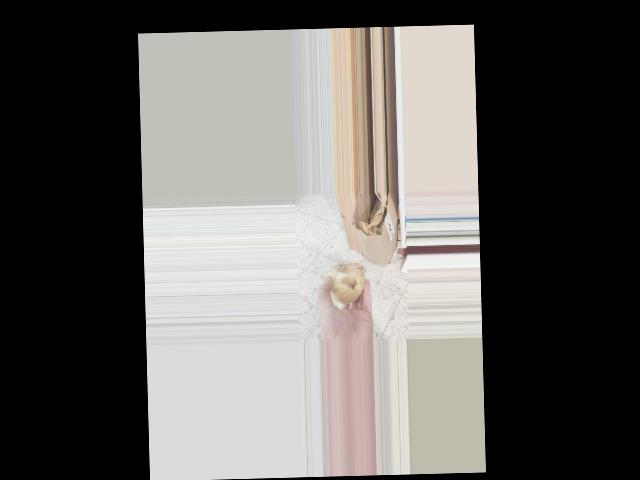onion: (319, 260, 366, 309)
